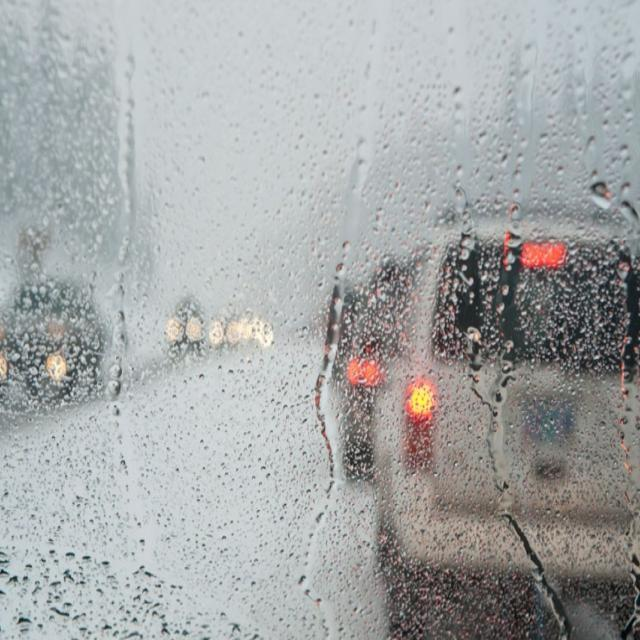car: (390, 210, 632, 630), (3, 279, 115, 412), (343, 272, 389, 472), (163, 295, 204, 354)
